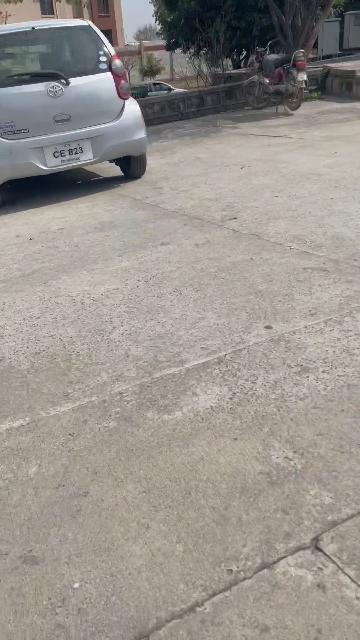plate: (42, 137, 92, 167)
